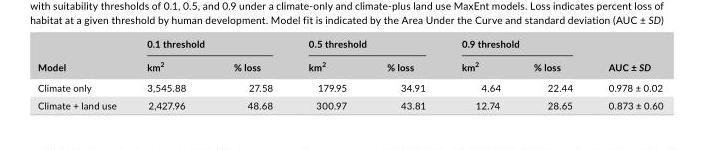table: (36, 37, 662, 110)
table column: (36, 37, 130, 110), (209, 37, 289, 110), (130, 37, 209, 110), (289, 37, 366, 110), (366, 37, 442, 110), (442, 37, 516, 110), (516, 37, 589, 110), (589, 37, 662, 110)
table column header: (36, 37, 662, 76)
table row: (36, 54, 662, 76), (36, 76, 662, 95), (36, 37, 662, 54), (36, 95, 662, 110)
table spanning cell: (36, 37, 130, 76), (589, 37, 662, 76), (130, 37, 289, 54), (289, 37, 442, 54), (442, 37, 589, 54)
